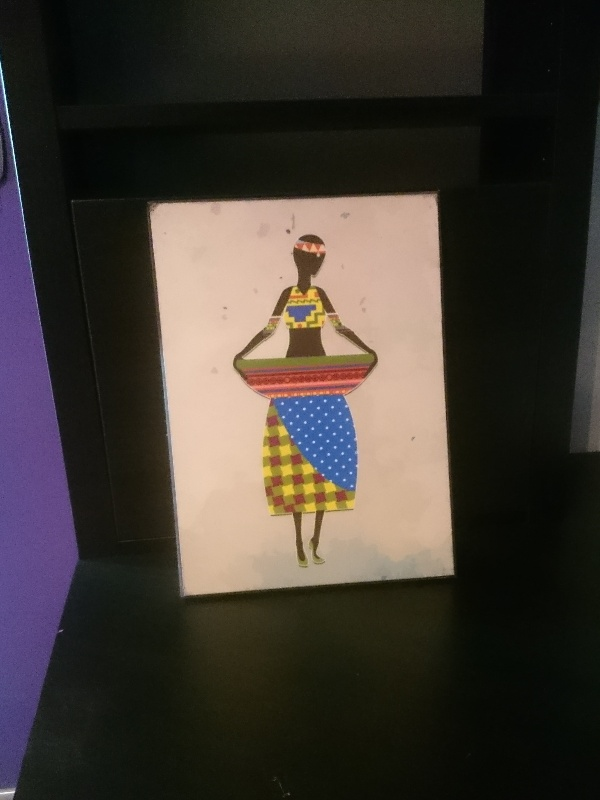my image: (148, 193, 453, 594)
